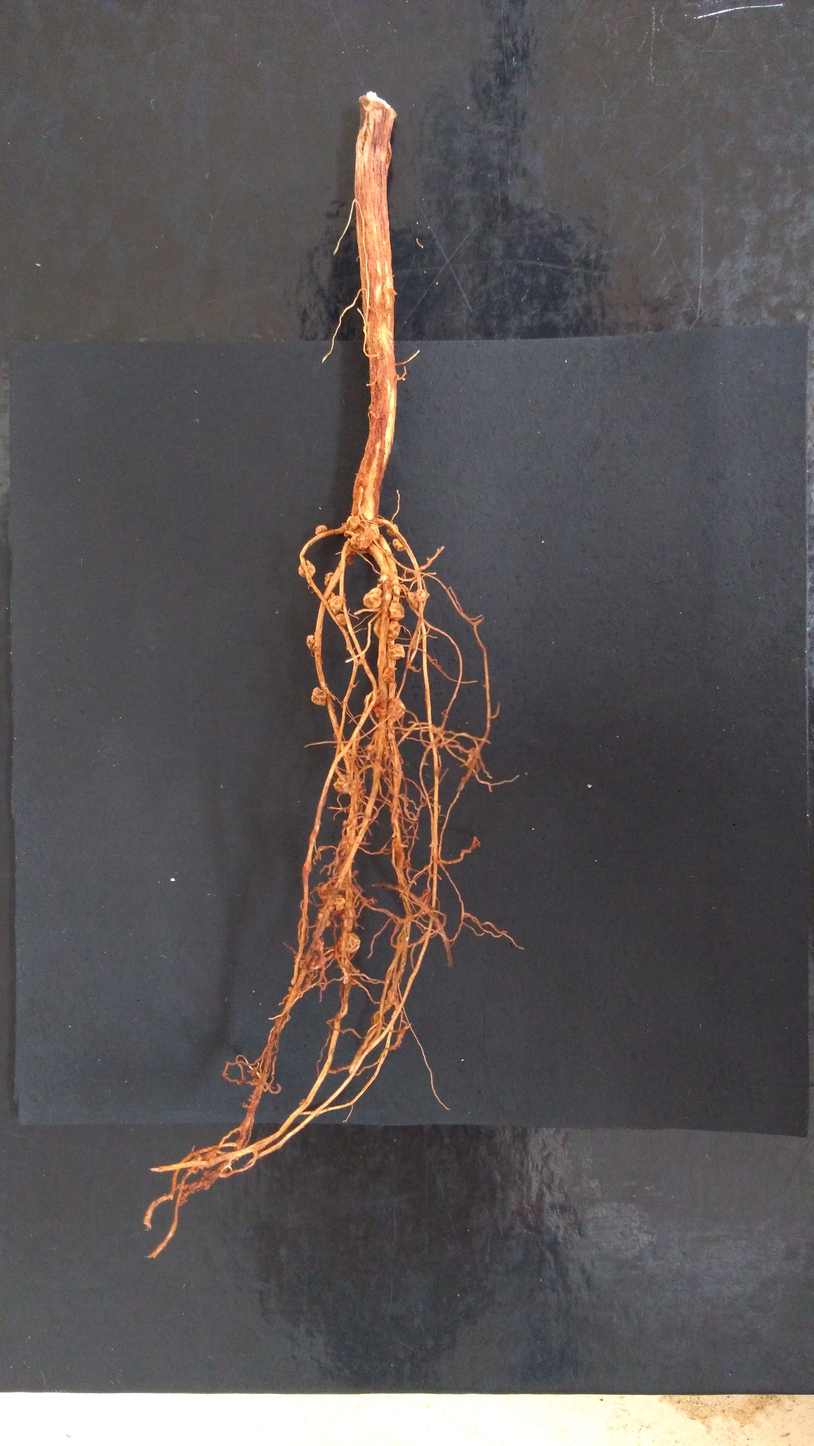nodule: (373, 615, 401, 642), (364, 688, 387, 719), (349, 528, 373, 551), (337, 932, 361, 954), (387, 696, 406, 722), (362, 587, 383, 610), (298, 952, 323, 971), (365, 743, 390, 761), (332, 774, 352, 795), (343, 515, 361, 538), (388, 599, 405, 622), (326, 594, 344, 615), (198, 1150, 218, 1168), (310, 686, 327, 707), (298, 560, 316, 578), (406, 590, 421, 611), (389, 643, 406, 660), (316, 883, 334, 899), (331, 893, 346, 912), (365, 523, 380, 541), (344, 539, 359, 557), (466, 746, 478, 768), (382, 666, 396, 684), (415, 588, 430, 602), (311, 937, 325, 951), (392, 538, 407, 551), (386, 523, 399, 537), (335, 613, 348, 627), (306, 634, 316, 652), (324, 571, 335, 587), (387, 988, 398, 1004), (346, 748, 358, 761), (381, 580, 394, 592), (315, 525, 327, 537), (341, 967, 349, 985), (346, 556, 355, 567), (299, 1098, 307, 1108), (342, 819, 350, 827), (317, 912, 324, 920), (325, 918, 331, 927), (287, 985, 293, 992)
